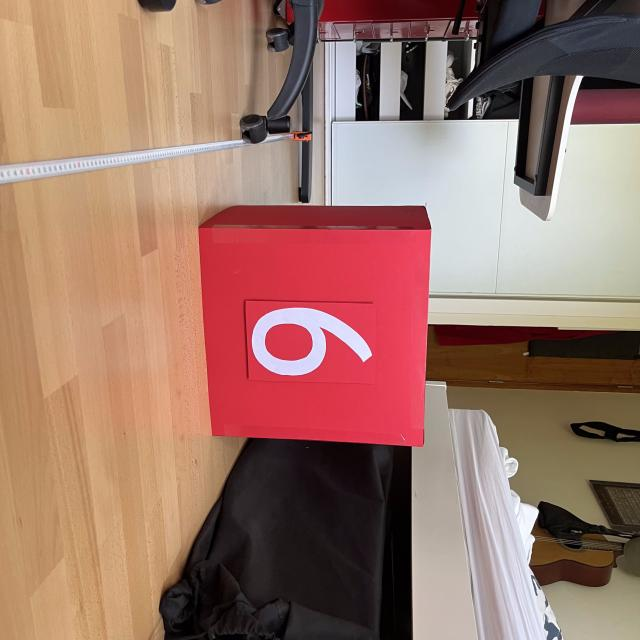box: (193, 200, 435, 448)
